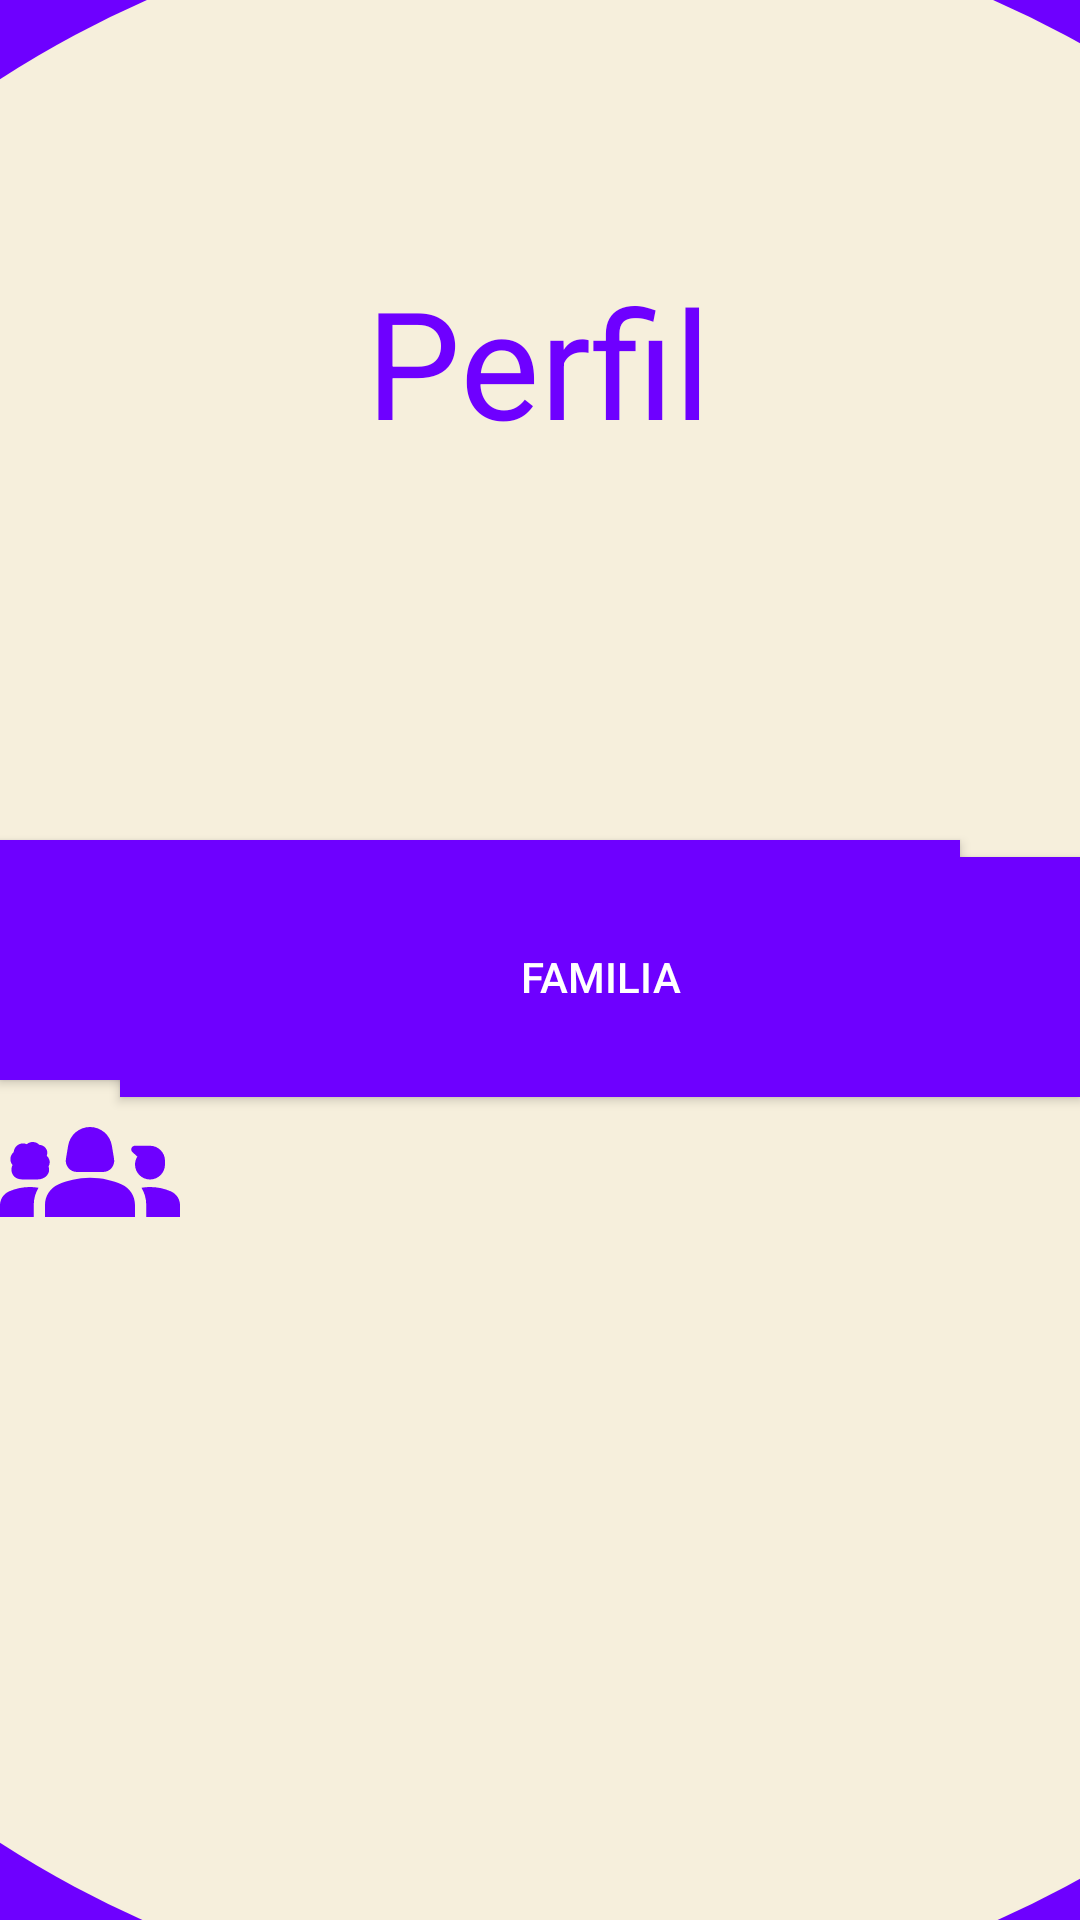

Locate icon controls on the screen. Image size 1080*1920, boxes as region(x1, y1, x2, y2).
fam: region(0, 1127, 180, 1217)
